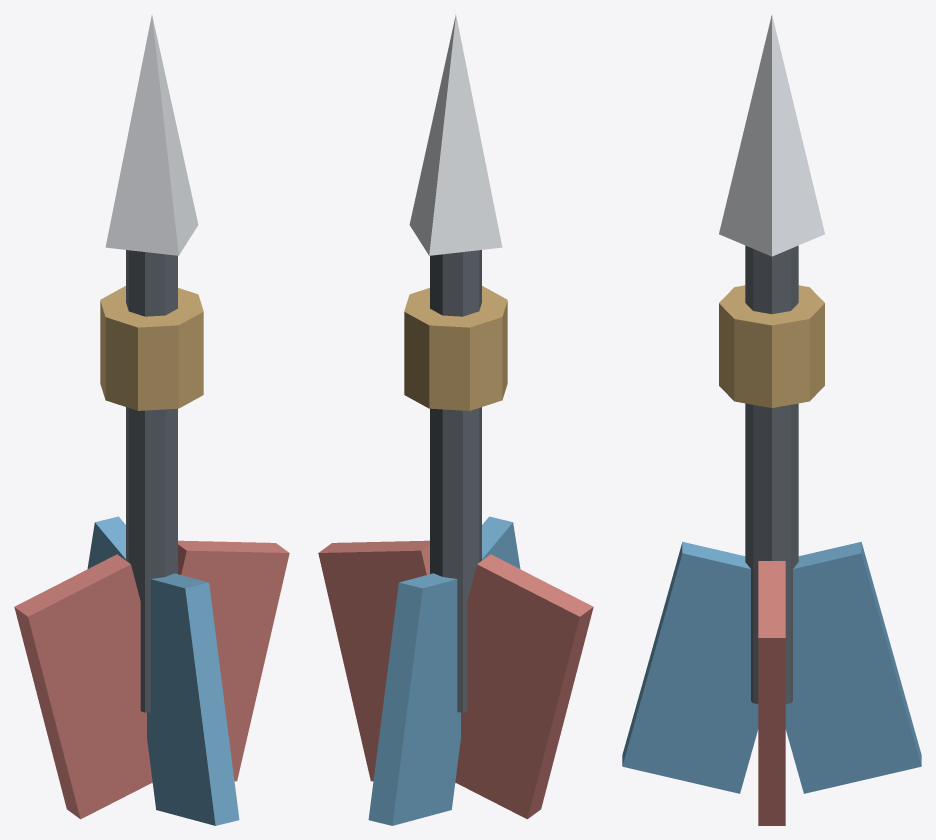
File: steel_dart.glb
3 views of the same model, side by side, from view 1: azimuth 30°, elevation 25°; view 2: azimuth 150°, elevation 25°; view 3: azimuth 270°, elevation 25° (orthographic).
Parts seen in each view (by area): view 1: FlightX_-1, FlightY_-1, WeightedShaft, FlightX_1, NeedleTip, BalanceCollar, FlightY_1; view 2: FlightX_-1, FlightY_1, WeightedShaft, FlightX_1, NeedleTip, BalanceCollar, FlightY_-1; view 3: FlightY_1, FlightY_-1, WeightedShaft, NeedleTip, BalanceCollar, FlightX_1.
Part boxes in pixels (x1,y1,x2,y2): FlightX_-1: (14, 554, 152, 819); FlightY_-1: (147, 573, 239, 825); WeightedShaft: (126, 250, 177, 712); FlightX_1: (134, 540, 289, 781); NeedleTip: (105, 15, 198, 255); BalanceCollar: (100, 286, 203, 410); FlightY_1: (87, 516, 152, 610); FlightX_-1: (455, 554, 593, 819); FlightY_1: (368, 573, 460, 825); WeightedShaft: (430, 250, 481, 712); FlightX_1: (318, 540, 473, 781); NeedleTip: (409, 15, 502, 255); BalanceCollar: (404, 286, 507, 410); FlightY_-1: (454, 516, 520, 604); FlightY_1: (744, 541, 921, 793); FlightY_-1: (622, 541, 799, 793); WeightedShaft: (745, 245, 798, 703); NeedleTip: (719, 15, 824, 256); BalanceCollar: (719, 285, 824, 407); FlightX_1: (758, 561, 785, 825).
Size of the model in its own units: 0.3942 by 1.12 by 0.3942.
